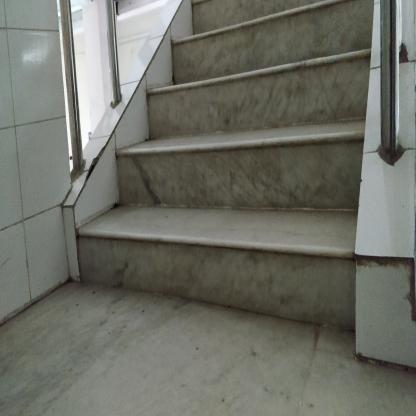stairs: (197, 32, 351, 357)
